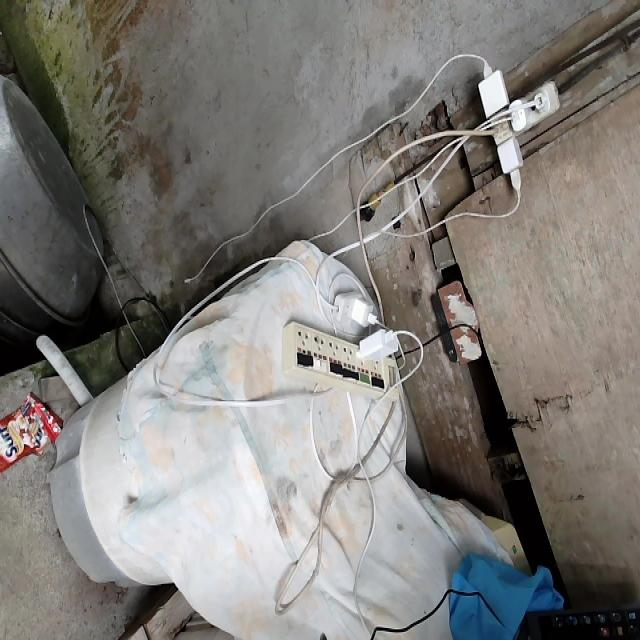-: (470, 60, 562, 191)
